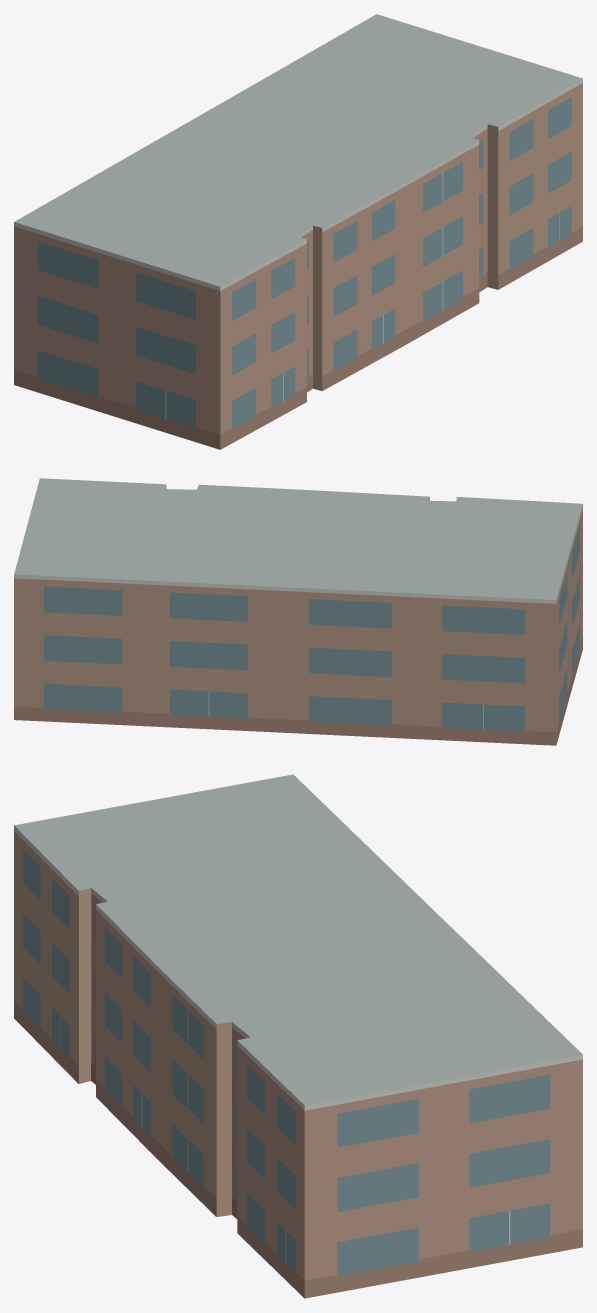
The model's file is survey-upis-32979349.glb.
3 views of the same model, one above another, from view 1: azimuth 30°, elevation 25°; view 2: azimuth 150°, elevation 25°; view 3: azimuth 270°, elevation 25° (orthographic). The views are drawn at different scales.
Visible parts, largest first — view 1: survey-upis-32979349.tmp; view 2: survey-upis-32979349.tmp; view 3: survey-upis-32979349.tmp.
Part boxes in pixels (box(x1,y1,x2,y2)): survey-upis-32979349.tmp: box(14, 14, 582, 449); survey-upis-32979349.tmp: box(14, 478, 582, 745); survey-upis-32979349.tmp: box(14, 774, 582, 1298).
Bounding box in the file's own units: 33.69 × 9.15 × 24.45.
